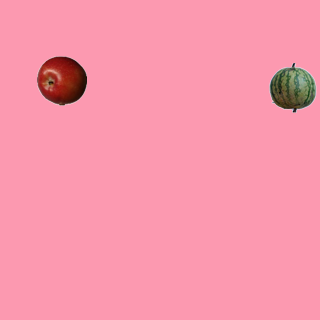Apple Braeburn: (36, 55, 86, 105)
Watermelon: (267, 62, 317, 112)
